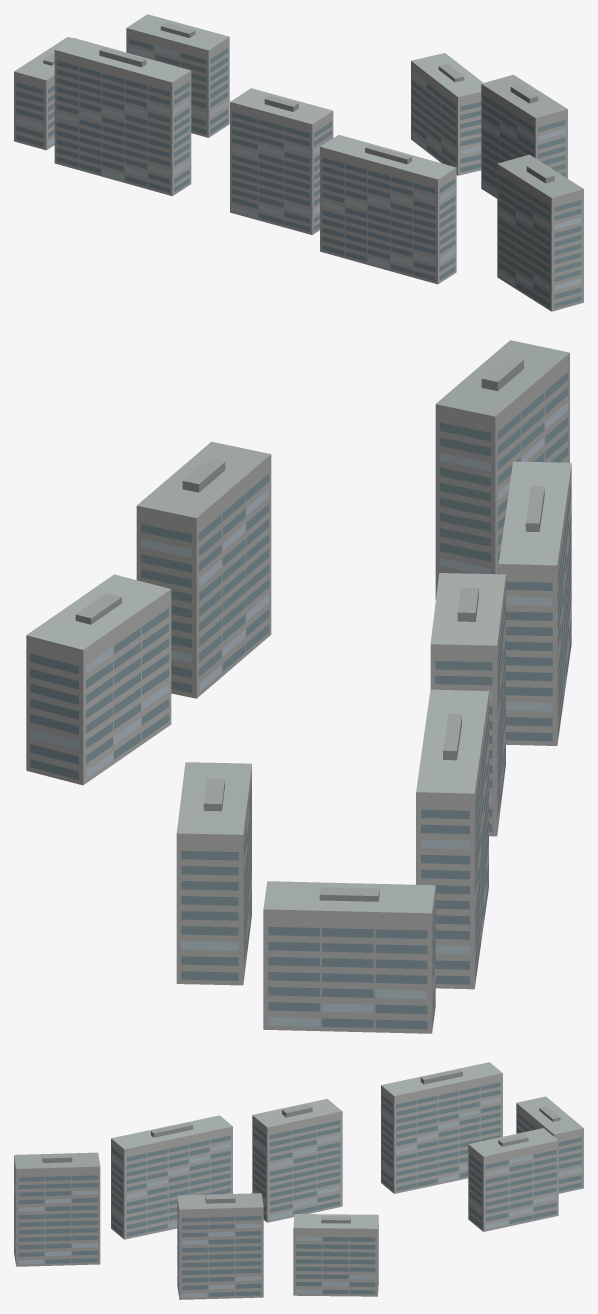
The model's file is apt-a13519004.glb.
3 views of the same model, one above another, from view 1: azimuth 30°, elevation 25°; view 2: azimuth 150°, elevation 25°; view 3: azimuth 270°, elevation 25° (orthographic). The views are drawn at different scales.
Visible parts, largest first — view 1: apt-a13519004; view 2: apt-a13519004; view 3: apt-a13519004.
Boxes of the visible parts, bbox=[...] form: apt-a13519004: bbox=[14, 14, 583, 311]; apt-a13519004: bbox=[26, 340, 571, 1033]; apt-a13519004: bbox=[14, 1062, 583, 1299].
Size of the model in its own units: 117 by 39 by 197.
